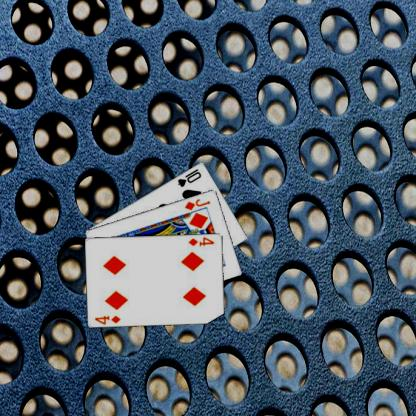10S: (174, 166, 202, 188)
4D: (93, 313, 122, 325), (186, 235, 215, 246)
JD: (182, 196, 212, 211)
